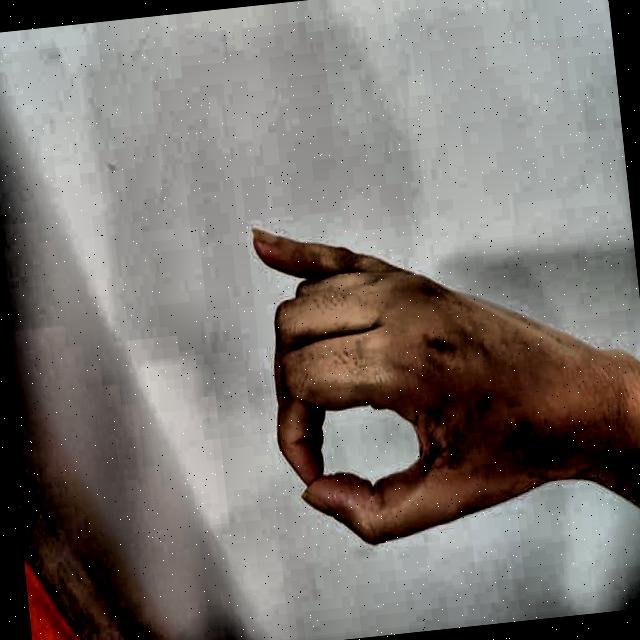Ou: (224, 176, 583, 589)
